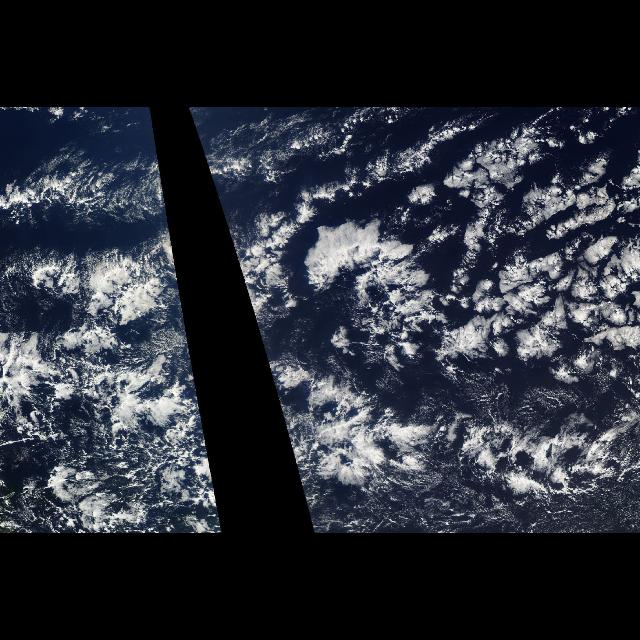Fish: (234, 247, 604, 501), (76, 247, 218, 501)
Flower: (304, 119, 640, 375)
